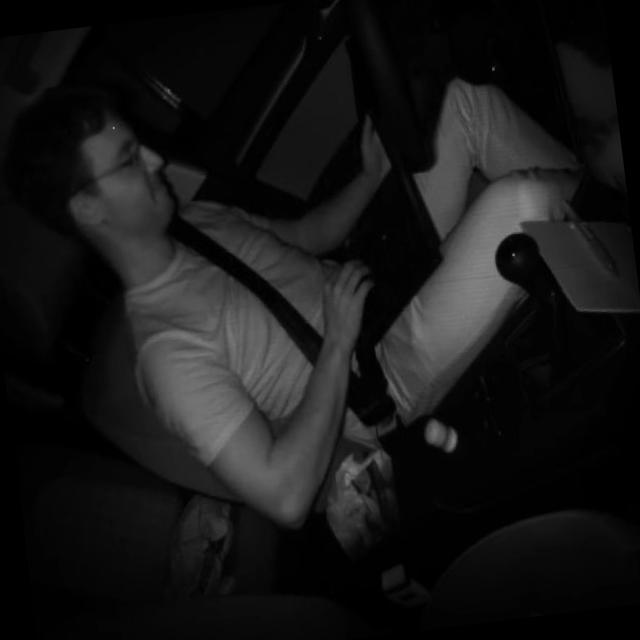pen: (558, 184, 624, 288)
